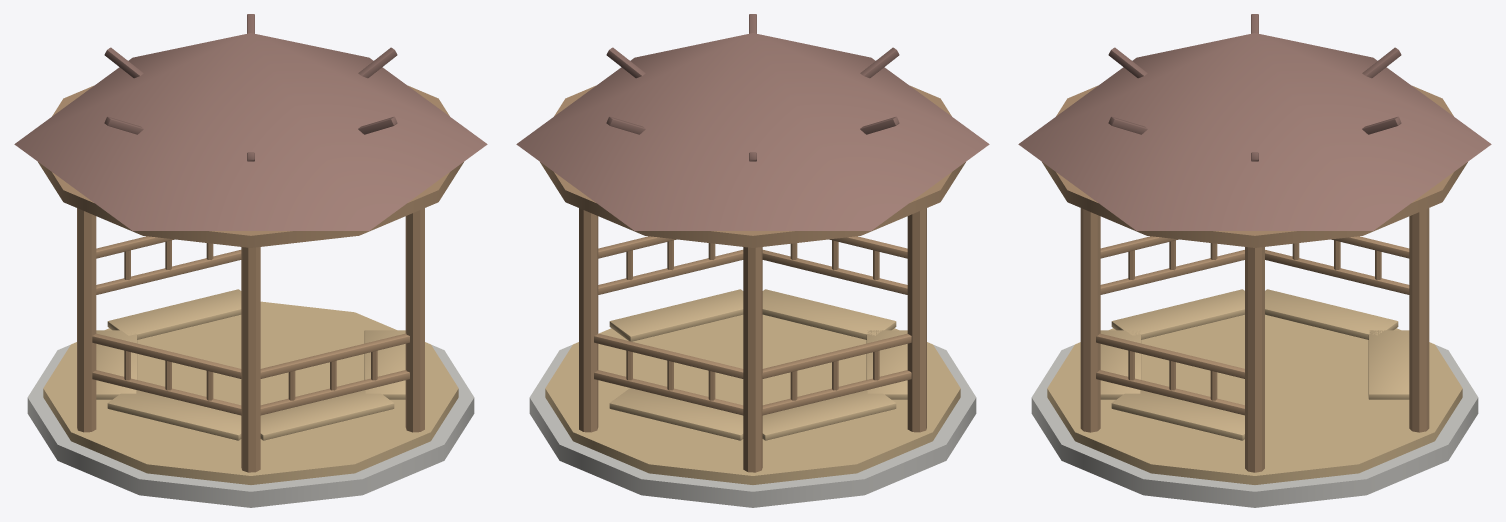
Rendered from th47_gartenlaube.glb.
3 views of the same model, side by side, from view 1: azimuth 30°, elevation 25°; view 2: azimuth 150°, elevation 25°; view 3: azimuth 270°, elevation 25° (orthographic).
Parts seen in each view (by area): view 1: Cone, Cylinder.001, Cylinder, Cylinder.023, Cylinder.006, Cylinder.005, Cylinder.007, Cube.008, Cube.011, Cube.002, Cube.014, Cube.005 (+6 smaller); view 2: Cone, Cylinder.001, Cylinder, Cylinder.023, Cylinder.004, Cylinder.005, Cylinder.003, Cube.014, Cube.002, Cube.005, Cube.011, Cube.008 (+8 smaller); view 3: Cone, Cylinder.001, Cylinder, Cylinder.023, Cylinder.003, Cylinder.007, Cylinder.002, Cube.014, Cube.008, Cube.005, Cube.002, Cube.011 (+6 smaller).
Part boxes in pixels (left/top/right/bottom): Cone: left=14, top=33, right=487, bottom=230; Cylinder.001: left=43, top=301, right=458, bottom=484; Cylinder: left=27, top=345, right=474, bottom=507; Cylinder.023: left=38, top=85, right=463, bottom=247; Cylinder.006: left=241, top=247, right=260, bottom=472; Cylinder.005: left=77, top=208, right=96, bottom=432; Cylinder.007: left=405, top=208, right=424, bottom=432; Cube.008: left=107, top=390, right=241, bottom=440; Cube.011: left=260, top=390, right=394, bottom=440; Cube.002: left=107, top=289, right=241, bottom=339; Cube.014: left=364, top=330, right=405, bottom=399; Cube.005: left=96, top=330, right=137, bottom=399; Cone: left=516, top=33, right=989, bottom=230; Cylinder.001: left=545, top=314, right=960, bottom=484; Cylinder: left=529, top=345, right=976, bottom=507; Cylinder.023: left=540, top=85, right=965, bottom=247; Cylinder.004: left=743, top=247, right=762, bottom=472; Cylinder.005: left=907, top=208, right=926, bottom=432; Cylinder.003: left=579, top=208, right=598, bottom=432; Cube.014: left=609, top=289, right=743, bottom=341; Cube.002: left=609, top=388, right=743, bottom=440; Cube.005: left=762, top=390, right=896, bottom=440; Cube.011: left=762, top=289, right=896, bottom=339; Cube.008: left=866, top=330, right=907, bottom=399; Cone: left=1018, top=33, right=1491, bottom=230; Cylinder.001: left=1047, top=314, right=1462, bottom=484; Cylinder: left=1031, top=345, right=1478, bottom=507; Cylinder.023: left=1042, top=85, right=1467, bottom=247; Cylinder.003: left=1409, top=208, right=1429, bottom=432; Cylinder.007: left=1080, top=208, right=1100, bottom=432; Cylinder.002: left=1245, top=247, right=1264, bottom=472; Cube.014: left=1111, top=390, right=1244, bottom=440; Cube.008: left=1111, top=289, right=1244, bottom=339; Cube.005: left=1265, top=289, right=1398, bottom=339; Cube.002: left=1368, top=330, right=1409, bottom=399; Cube.011: left=1100, top=330, right=1141, bottom=399.
Size of the model in its own units: 4 by 3.76 by 4.24.
